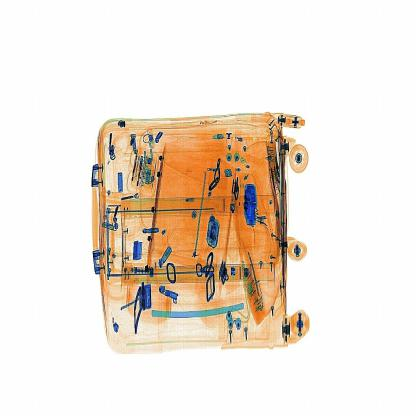scissors: (239, 173, 263, 237)
